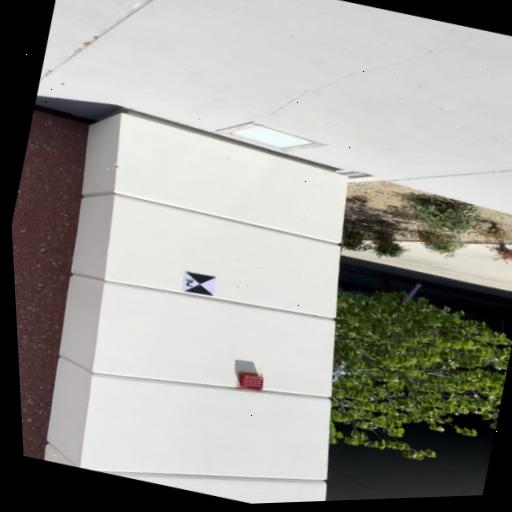target2: (183, 272, 216, 296)
